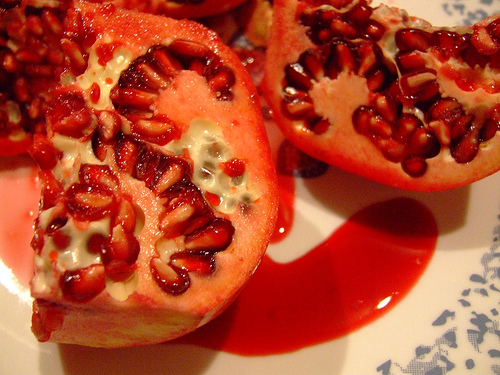pomogranate: (29, 1, 280, 351), (264, 0, 498, 188)
